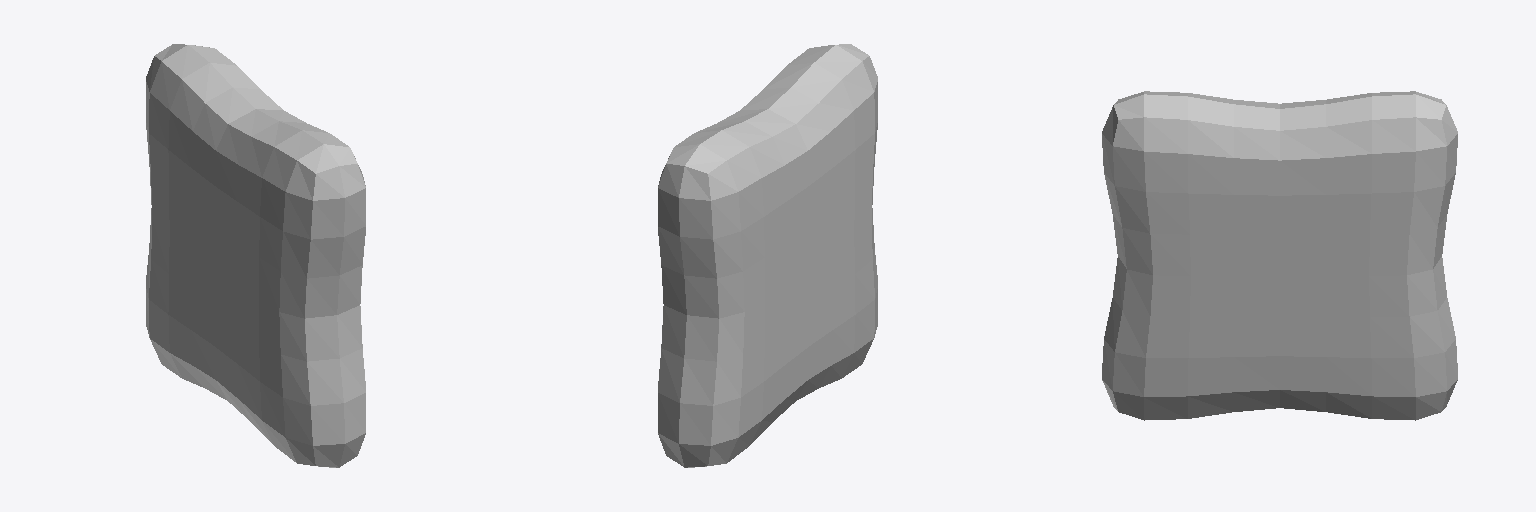
Rendered from cushion.obj.
3 views of the same model, side by side, from view 1: azimuth 30°, elevation 25°; view 2: azimuth 150°, elevation 25°; view 3: azimuth 270°, elevation 25° (orthographic).
Visible parts, largest first — view 1: Cube; view 2: Cube; view 3: Cube.
Part boxes in pixels (left/top/right/bottom): Cube: left=146, top=44, right=365, bottom=467; Cube: left=658, top=44, right=877, bottom=467; Cube: left=1102, top=91, right=1457, bottom=420.
Size of the model in its own units: 1.1 by 4.06 by 4.06.